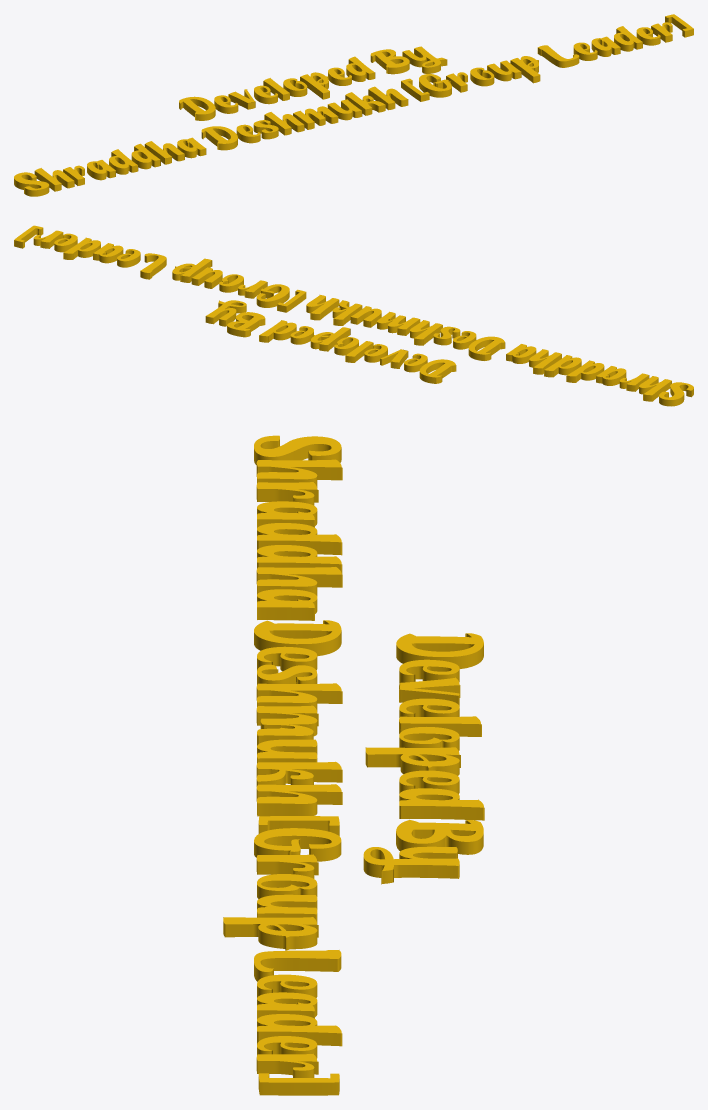
File: developedBy.gltf
3 views of the same model, one above another, from view 1: azimuth 30°, elevation 25°; view 2: azimuth 150°, elevation 25°; view 3: azimuth 270°, elevation 25° (orthographic). The views are drawn at different scales.
Parts seen in each view (by area): view 1: Text; view 2: Text; view 3: Text.
Boxes of the visible parts, x1,y1,x2,y2 form: Text: (14,14,693,196); Text: (14,225,693,406); Text: (223,435,484,1095).
Size of the model in its own units: 10.76 by 0.1 by 1.84.
